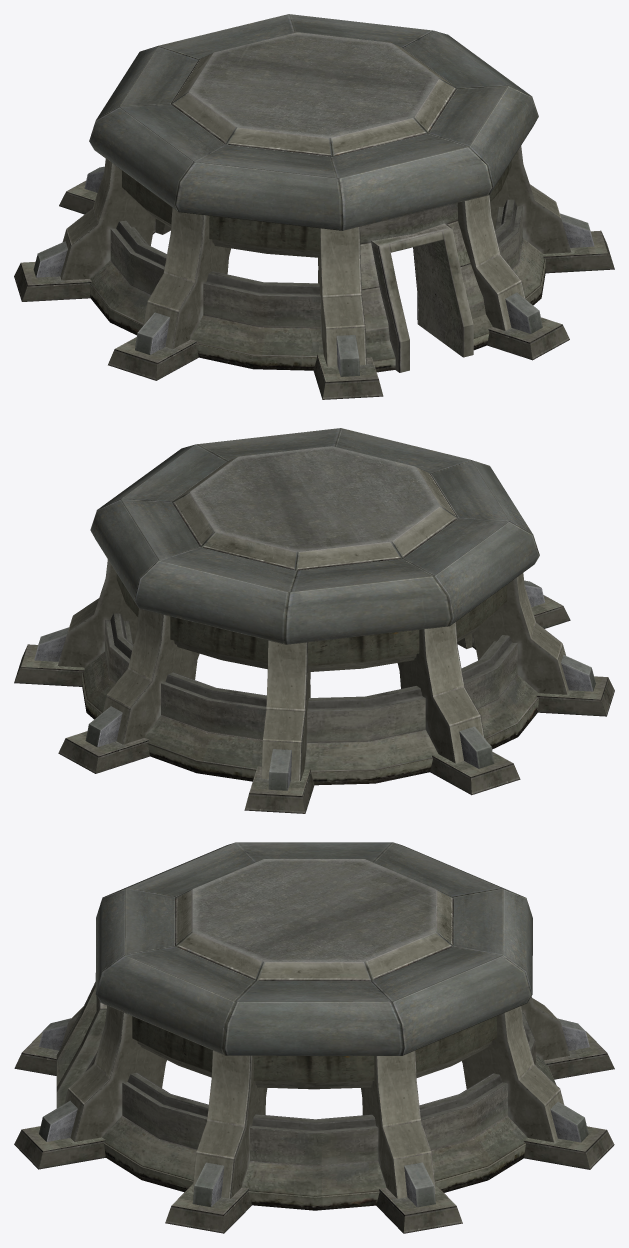
File: bunker3_fbx.FBX
3 views of the same model, one above another, from view 1: azimuth 30°, elevation 25°; view 2: azimuth 150°, elevation 25°; view 3: azimuth 270°, elevation 25° (orthographic). The views are drawn at different scales.
Parts seen in each view (by area): view 1: bunker3; view 2: bunker3; view 3: bunker3.
Part boxes in pixels (left/top/right/bottom): bunker3: left=14, top=14, right=614, bottom=399; bunker3: left=14, top=428, right=614, bottom=813; bunker3: left=14, top=842, right=614, bottom=1233.
Size of the model in its own units: 292 by 105 by 292.
